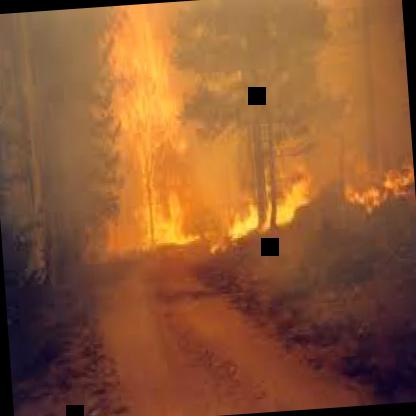fire: (110, 4, 207, 258), (209, 140, 408, 228)
